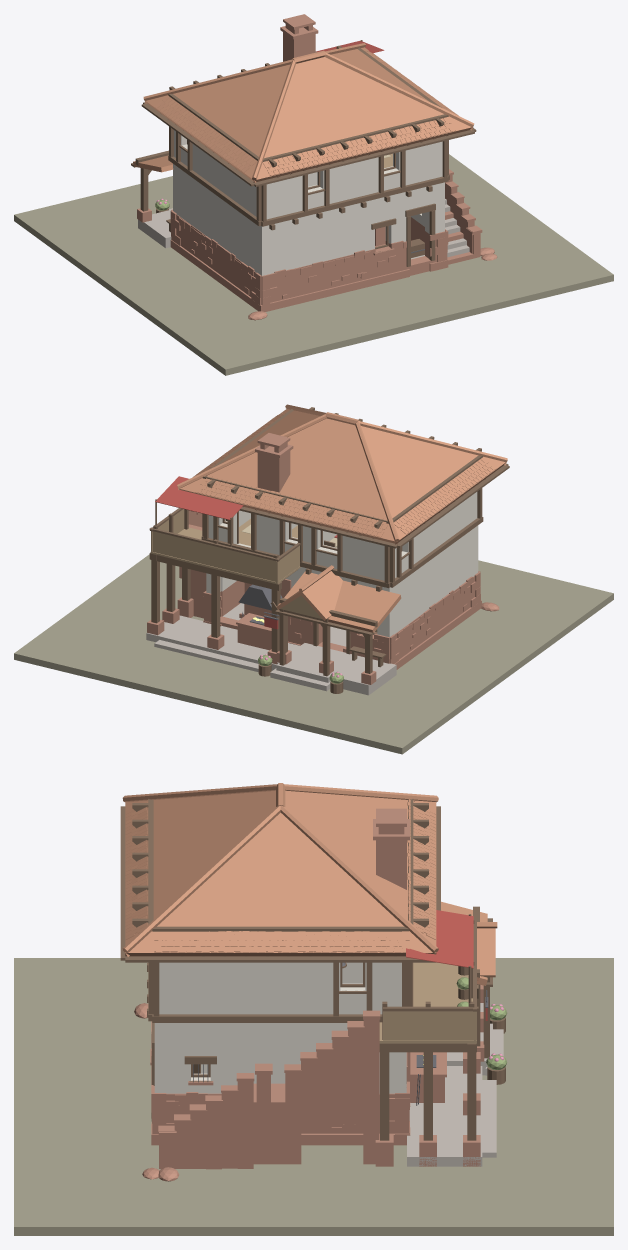
The model's file is tavern-4-corner.glb.
3 views of the same model, one above another, from view 1: azimuth 30°, elevation 25°; view 2: azimuth 150°, elevation 25°; view 3: azimuth 270°, elevation 25° (orthographic). The views are drawn at different scales.
Visible parts, largest first — view 1: zemlya__m00, krysha__m03, obolochka__m01, obolochka__m00, obolochka__m02, krysha__m02, obolochka__m11, krysha__m00; view 2: zemlya__m00, krysha__m03, obolochka__m02, obolochka__m01, obolochka__m00, obolochka__m11, obolochka__m09, obolochka__m03, krysha__m00, obolochka__m05, krysha__m02, mebel__m00 (+3 smaller); view 3: zemlya__m00, krysha__m03, obolochka__m00, obolochka__m01, obolochka__m02, obolochka__m11, obolochka__m09, krysha__m02, krysha__m00, obolochka__m05, obolochka__m03, mebel__m00 (+2 smaller).
Part boxes in pixels (box(x1,y1,x2,y2)): zemlya__m00: box(14, 154, 613, 375); krysha__m03: box(143, 43, 474, 182); obolochka__m01: box(173, 130, 444, 275); obolochka__m00: box(137, 169, 482, 311); obolochka__m02: box(131, 40, 449, 266); krysha__m02: box(141, 102, 476, 186); obolochka__m11: box(138, 199, 469, 257); krysha__m00: box(280, 14, 318, 61); zemlya__m00: box(14, 554, 613, 754); krysha__m03: box(177, 404, 507, 544); obolochka__m02: box(149, 407, 483, 676); obolochka__m01: box(206, 492, 478, 637); obolochka__m00: box(147, 510, 481, 684); obolochka__m11: box(146, 615, 396, 695); obolochka__m09: box(150, 509, 322, 619); obolochka__m03: box(276, 565, 401, 632); krysha__m00: box(255, 433, 293, 492); obolochka__m05: box(155, 476, 278, 629); krysha__m02: box(239, 463, 509, 548); mebel__m00: box(236, 579, 291, 650); zemlya__m00: box(14, 958, 613, 1235); krysha__m03: box(122, 783, 438, 956); obolochka__m00: box(150, 985, 484, 1169); obolochka__m01: box(154, 962, 406, 1093); obolochka__m02: box(132, 799, 492, 1140); obolochka__m11: box(407, 1003, 503, 1166); obolochka__m09: box(379, 962, 476, 1043); krysha__m02: box(120, 806, 440, 962); krysha__m00: box(373, 808, 409, 889); obolochka__m05: box(406, 910, 487, 1020); obolochka__m03: box(441, 901, 497, 985); mebel__m00: box(407, 1052, 446, 1102).
Size of the model in its own units: 17.9 by 9.19 by 16.88.
